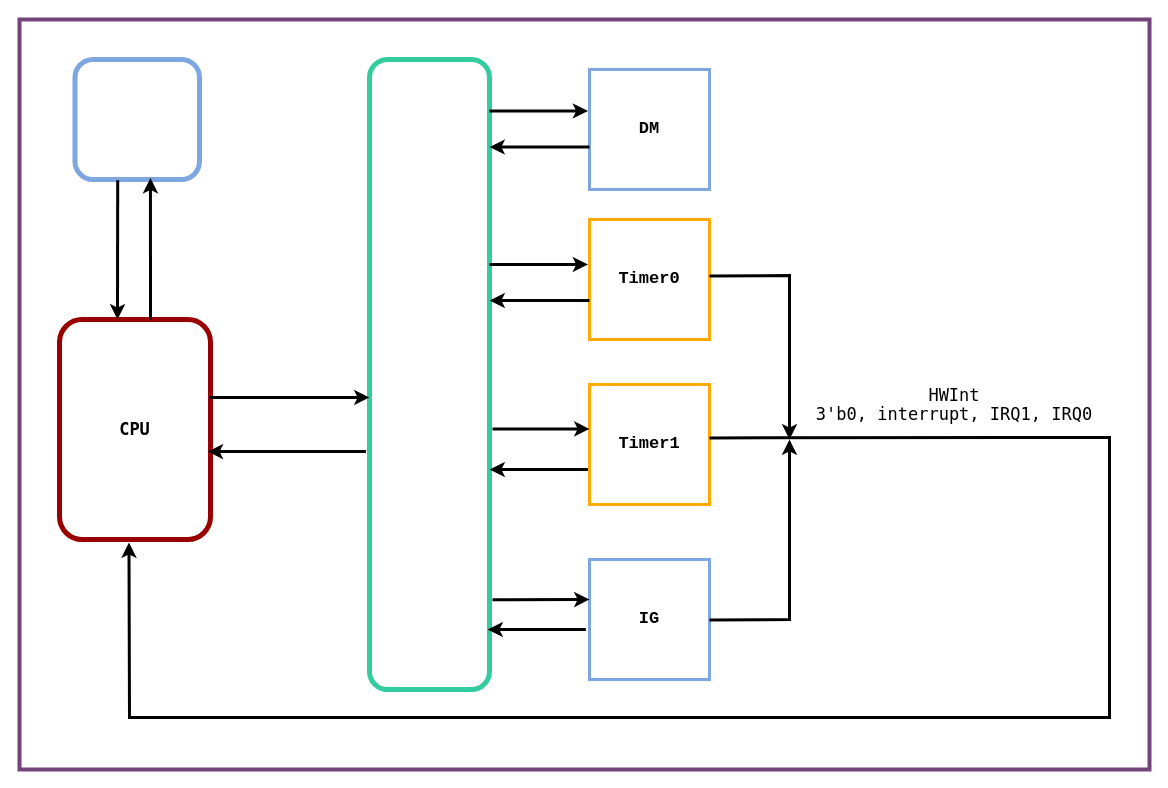
This 1168x788 diagram has some shape labels left out. The shapes that lost their labels are listed below. From the top down, each one's centre as x and y in pixels, then its label:
At [137,119]: "IM".
At [429,374]: "Bridge".
